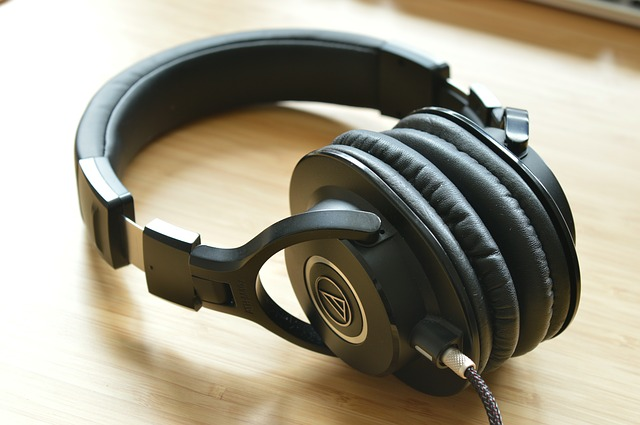headphones: (75, 28, 582, 398)
